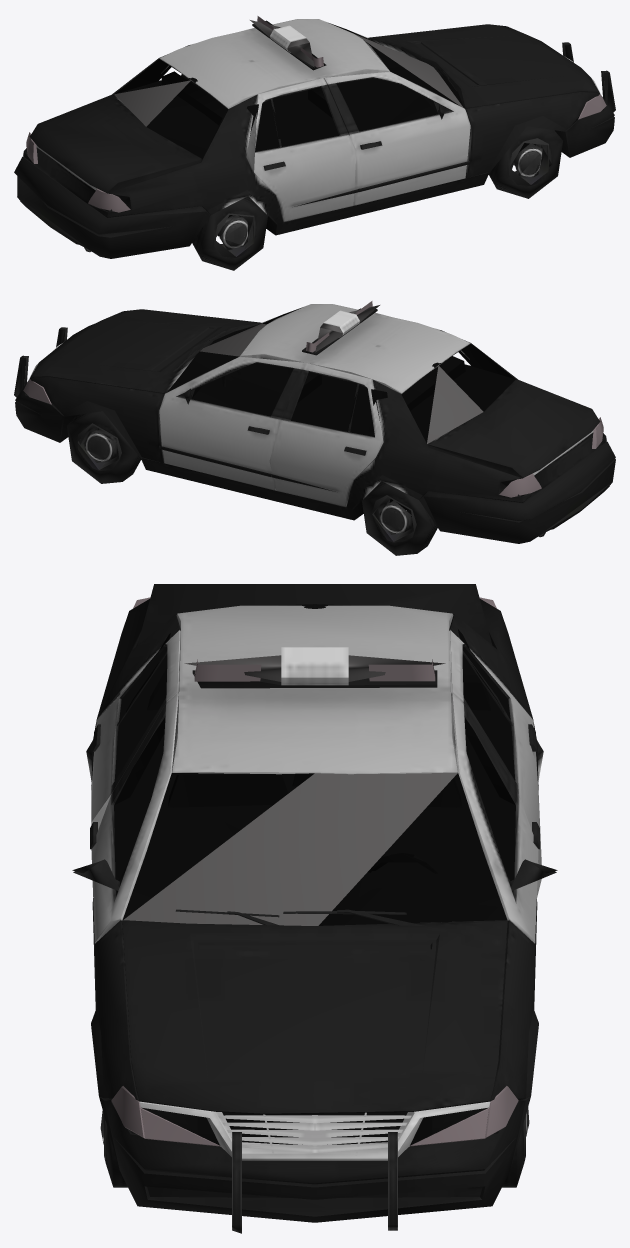
File: civ-police.lod1.glb
3 renders of one model, top to bottom at view 1: azimuth 30°, elevation 25°; view 2: azimuth 150°, elevation 25°; view 3: azimuth 270°, elevation 25°, orthographic. The views are drawn at different scales.
Parts seen in each view (by area): view 1: police_sedan_police_sedan_0, police_sedan_police_glass_0; view 2: police_sedan_police_sedan_0, police_sedan_police_glass_0; view 3: police_sedan_police_sedan_0, police_sedan_police_glass_0.
Part boxes in pixels (x1,y1,x2,y2): police_sedan_police_sedan_0: (14, 19, 615, 270); police_sedan_police_glass_0: (26, 16, 606, 212); police_sedan_police_sedan_0: (14, 304, 615, 555); police_sedan_police_glass_0: (23, 301, 603, 497); police_sedan_police_sedan_0: (72, 584, 557, 1233); police_sedan_police_glass_0: (111, 597, 518, 1146).
Size of the model in its own units: 5.17 by 1.57 by 1.98.
Materials: 2 (1 with a texture image).
